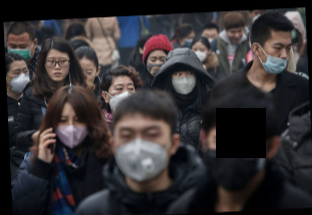mask_weared_incorrect: (257, 38, 292, 75)
with_mask: (203, 130, 266, 192), (112, 122, 172, 184), (54, 111, 89, 149), (106, 80, 137, 113), (6, 64, 31, 94), (171, 69, 196, 96), (7, 38, 35, 61), (146, 53, 168, 77), (192, 45, 207, 63)
without_mask: (43, 54, 69, 81), (224, 26, 245, 43)
